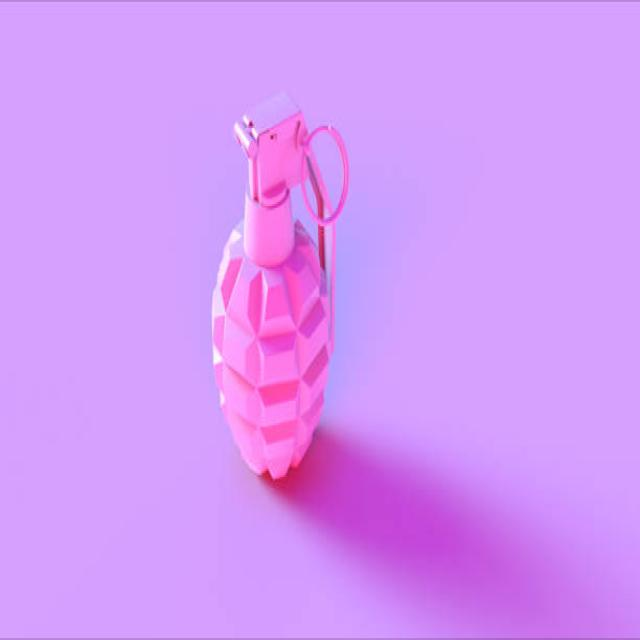grenade: (209, 84, 357, 488)
